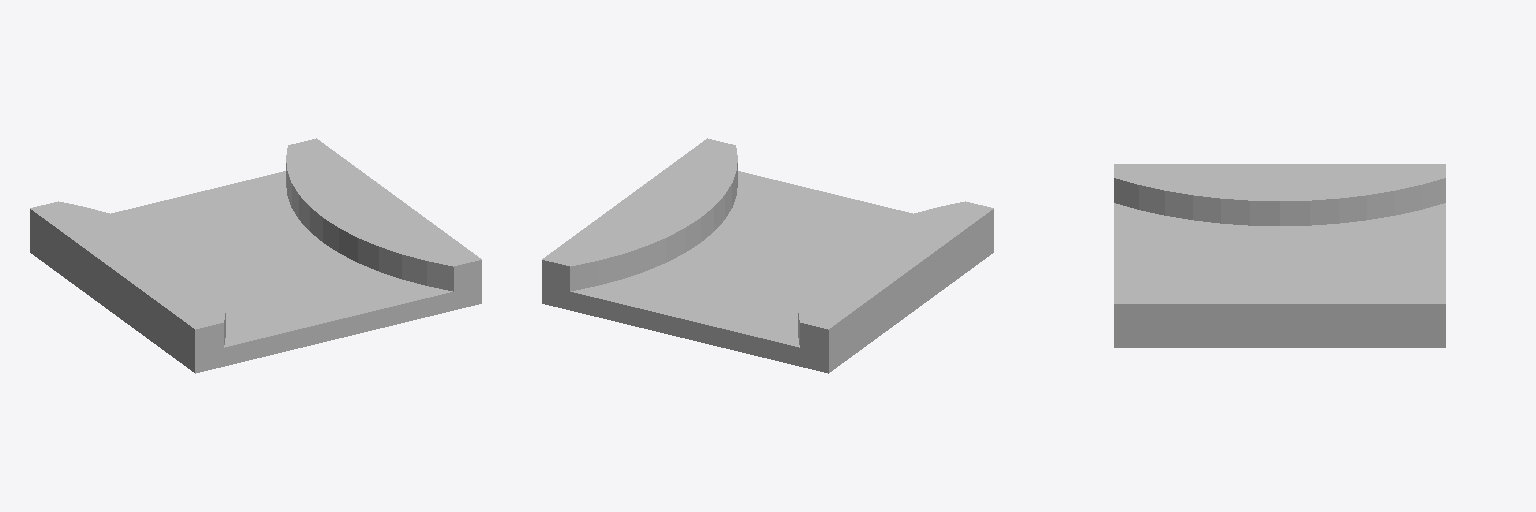
Rendered from Narrow_round_01.obj.
3 views of the same model, side by side, from view 1: azimuth 30°, elevation 25°; view 2: azimuth 150°, elevation 25°; view 3: azimuth 270°, elevation 25° (orthographic).
Parts seen in each view (by area): view 1: Mesh1 Narrow_round Model; view 2: Mesh1 Narrow_round Model; view 3: Mesh1 Narrow_round Model.
Part boxes in pixels (left/top/right/bottom): Mesh1 Narrow_round Model: left=30, top=138, right=481, bottom=373; Mesh1 Narrow_round Model: left=542, top=138, right=993, bottom=373; Mesh1 Narrow_round Model: left=1114, top=164, right=1445, bottom=347.
Bounding box in the file's own units: 3 × 0.44 × 3.